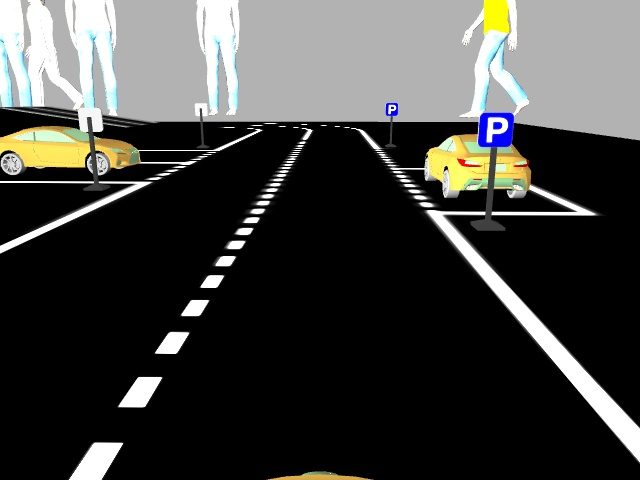Parking: (476, 112, 513, 148), (384, 102, 398, 116)
